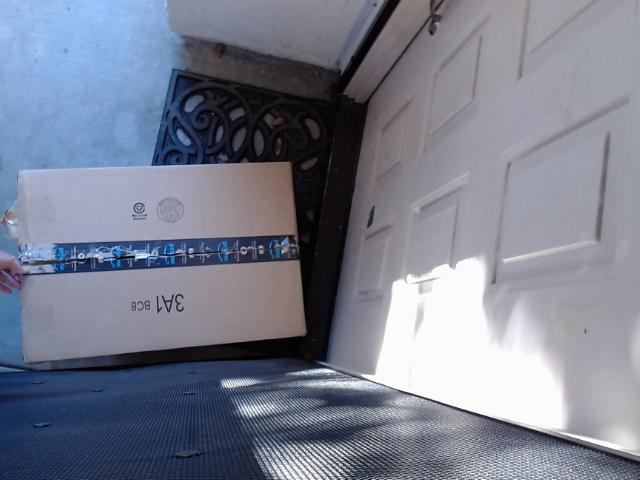box: (7, 144, 310, 370)
